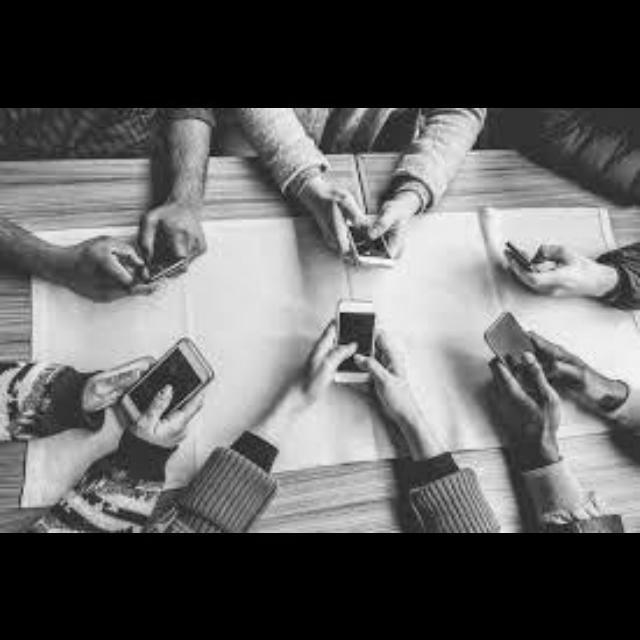fake: (97, 334, 240, 440), (469, 302, 567, 412), (316, 206, 419, 290), (121, 224, 210, 310), (329, 292, 387, 404), (499, 236, 565, 290)
